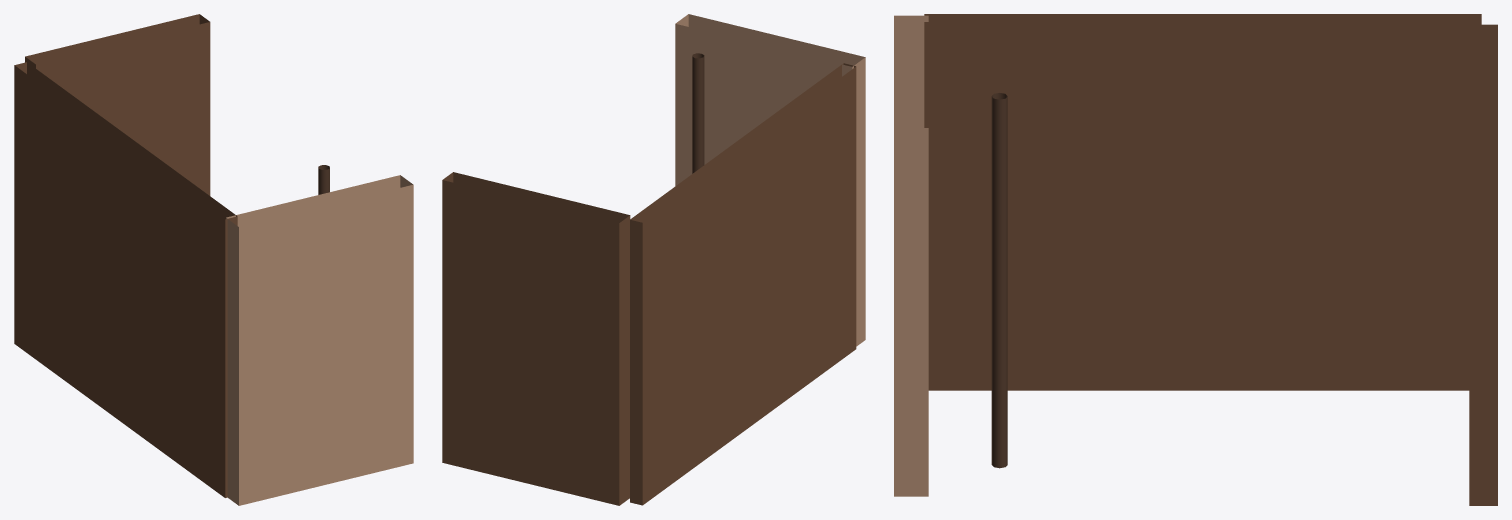
Rendered from section-1.obj.
3 views of the same model, side by side, from view 1: azimuth 30°, elevation 25°; view 2: azimuth 150°, elevation 25°; view 3: azimuth 270°, elevation 25° (orthographic). The views are drawn at different scales.
Size of the model in its own units: 0.718 by 1 by 1.48.
1 material, 1 textured.
